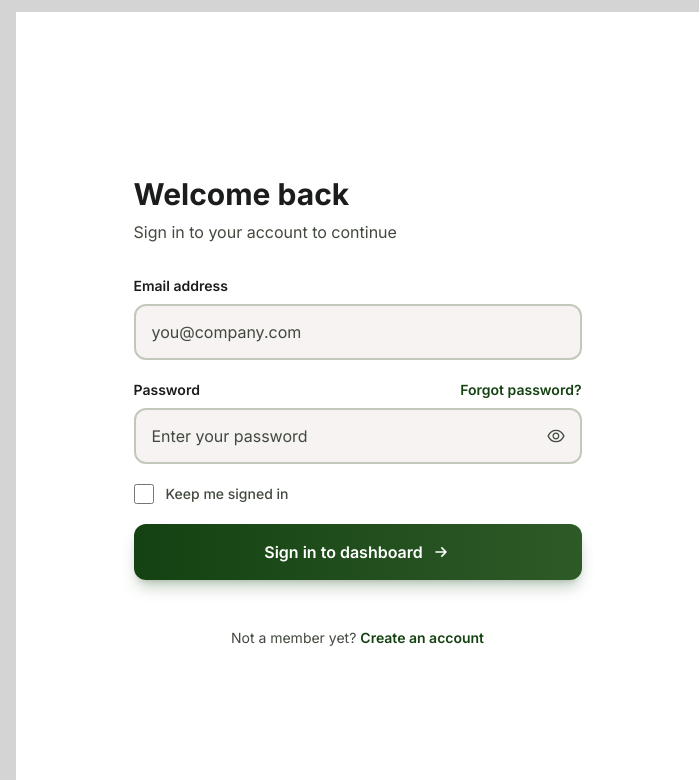
Test: Login Page › shows a generic error when signIn throws
Type "test@example.com" into the field with placeholder "you@company.com" at (358, 332), box [134,304,582,360]
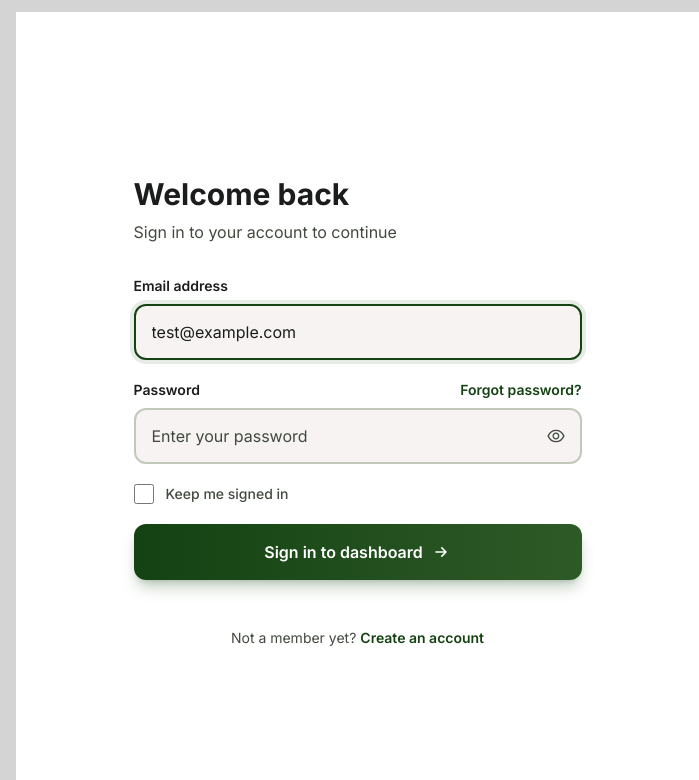
Type "Password1!" into the password field with placeholder "Enter your password" at (358, 436), box [134,408,582,464]
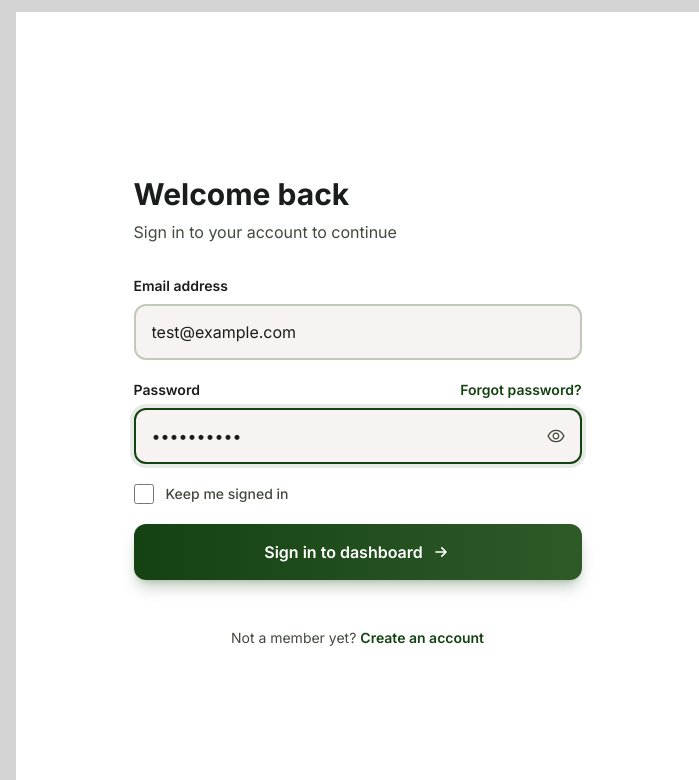
Click the button "Sign in to dashboard" at (358, 552), box [134,524,582,580]
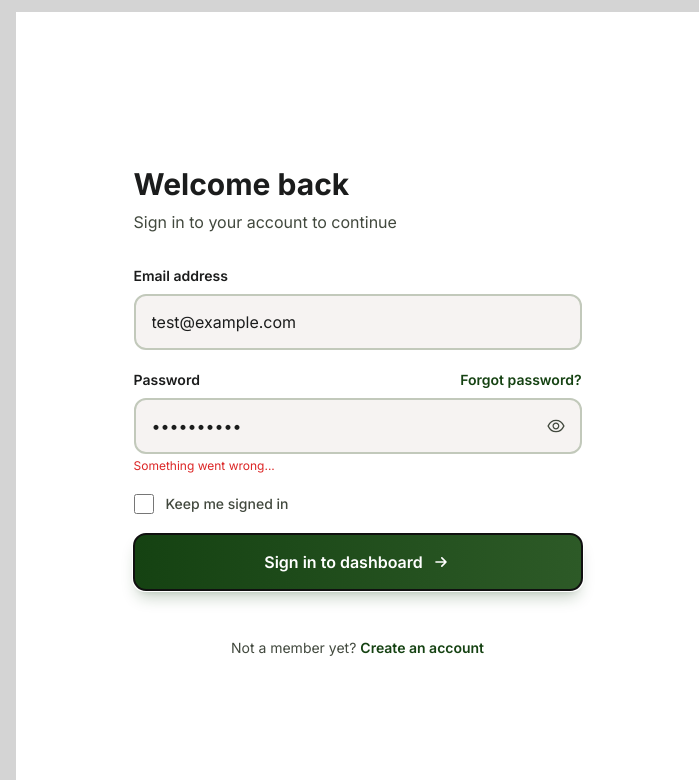
Result: the text "Something went wrong..." is shown at [134,458,275,473]
